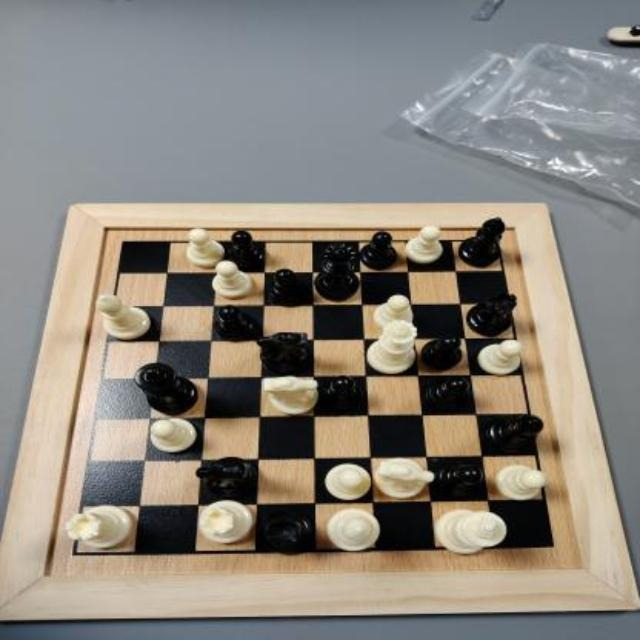black-bishop: (459, 216, 507, 268), (485, 412, 545, 452)
black-king: (135, 362, 199, 415)
black-knight: (196, 456, 260, 497), (256, 331, 311, 372)
black-pawn: (424, 376, 476, 414), (436, 463, 486, 499), (321, 374, 368, 412), (267, 268, 309, 308), (359, 231, 399, 272), (421, 334, 464, 372), (227, 230, 267, 270), (214, 304, 256, 342)
black-queen: (313, 241, 360, 302)
black-rook: (466, 289, 518, 338), (259, 510, 313, 554)
white-bishop: (93, 291, 153, 340), (328, 507, 382, 551)
white-king: (435, 509, 508, 555)
white-knight: (374, 456, 435, 499), (263, 376, 321, 414)
white-pawn: (495, 463, 547, 501), (478, 339, 525, 377), (325, 463, 372, 501), (150, 417, 198, 453), (403, 225, 446, 265), (213, 260, 254, 301), (186, 227, 226, 268), (375, 293, 416, 328)
white-queen: (366, 320, 418, 375)
white-rook: (64, 502, 134, 549), (199, 499, 253, 545)
